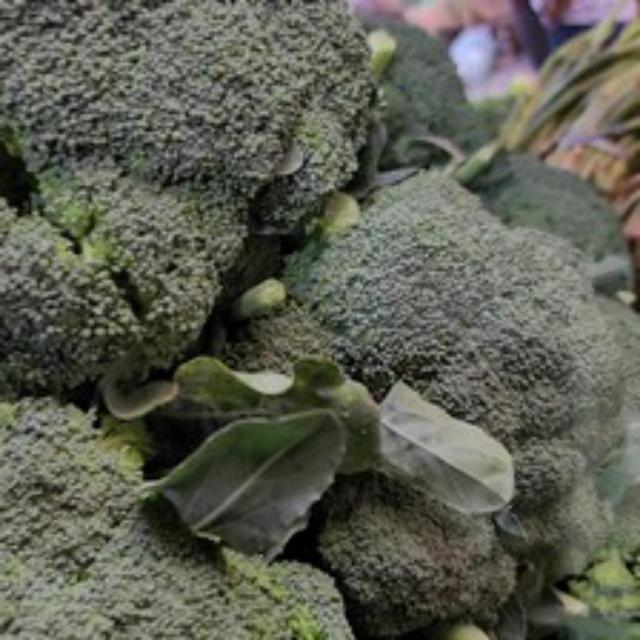broccoli: (208, 166, 637, 631)
